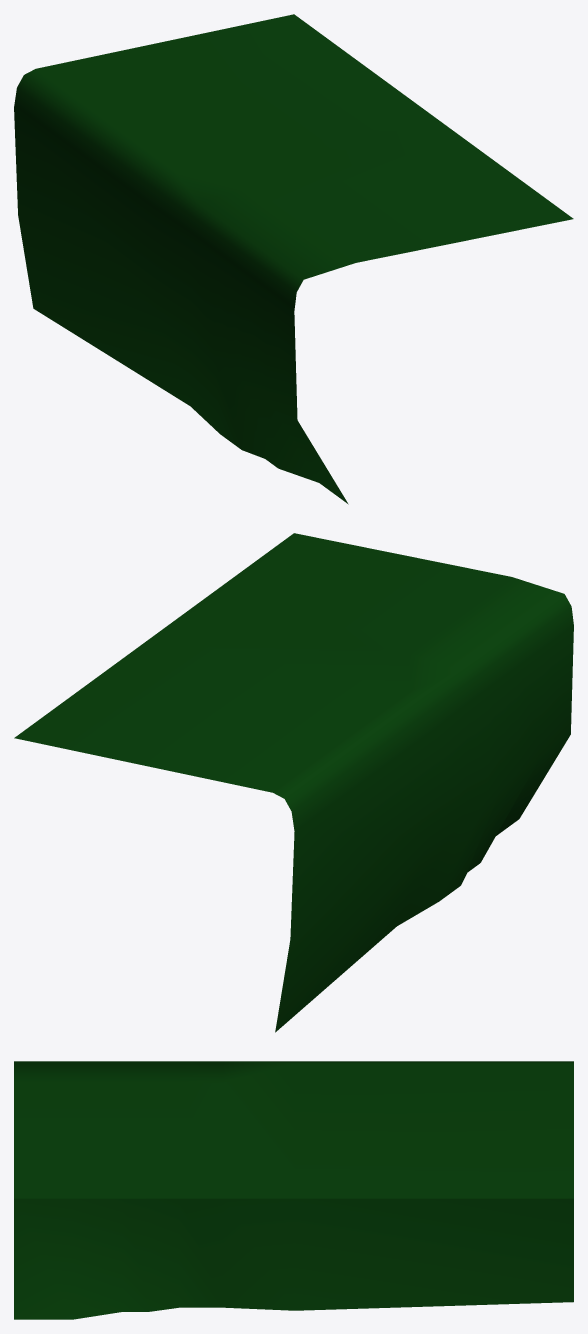
File: slidemat_lie_down_c.FBX
The picture shows the model from 3 angles, top to bottom: view 1: azimuth 30°, elevation 25°; view 2: azimuth 150°, elevation 25°; view 3: azimuth 270°, elevation 25°; orthographic projection.
Visible parts, largest first — view 1: bottom_right_slide; view 2: bottom_right_slide; view 3: bottom_right_slide.
Boxes of the visible parts, <box> form: bottom_right_slide: <box>14,14,573,504</box>; bottom_right_slide: <box>14,533,573,1032</box>; bottom_right_slide: <box>14,1061,573,1319</box>.
Bounding box in the file's own units: 42.26 × 34.6 × 73.09.
